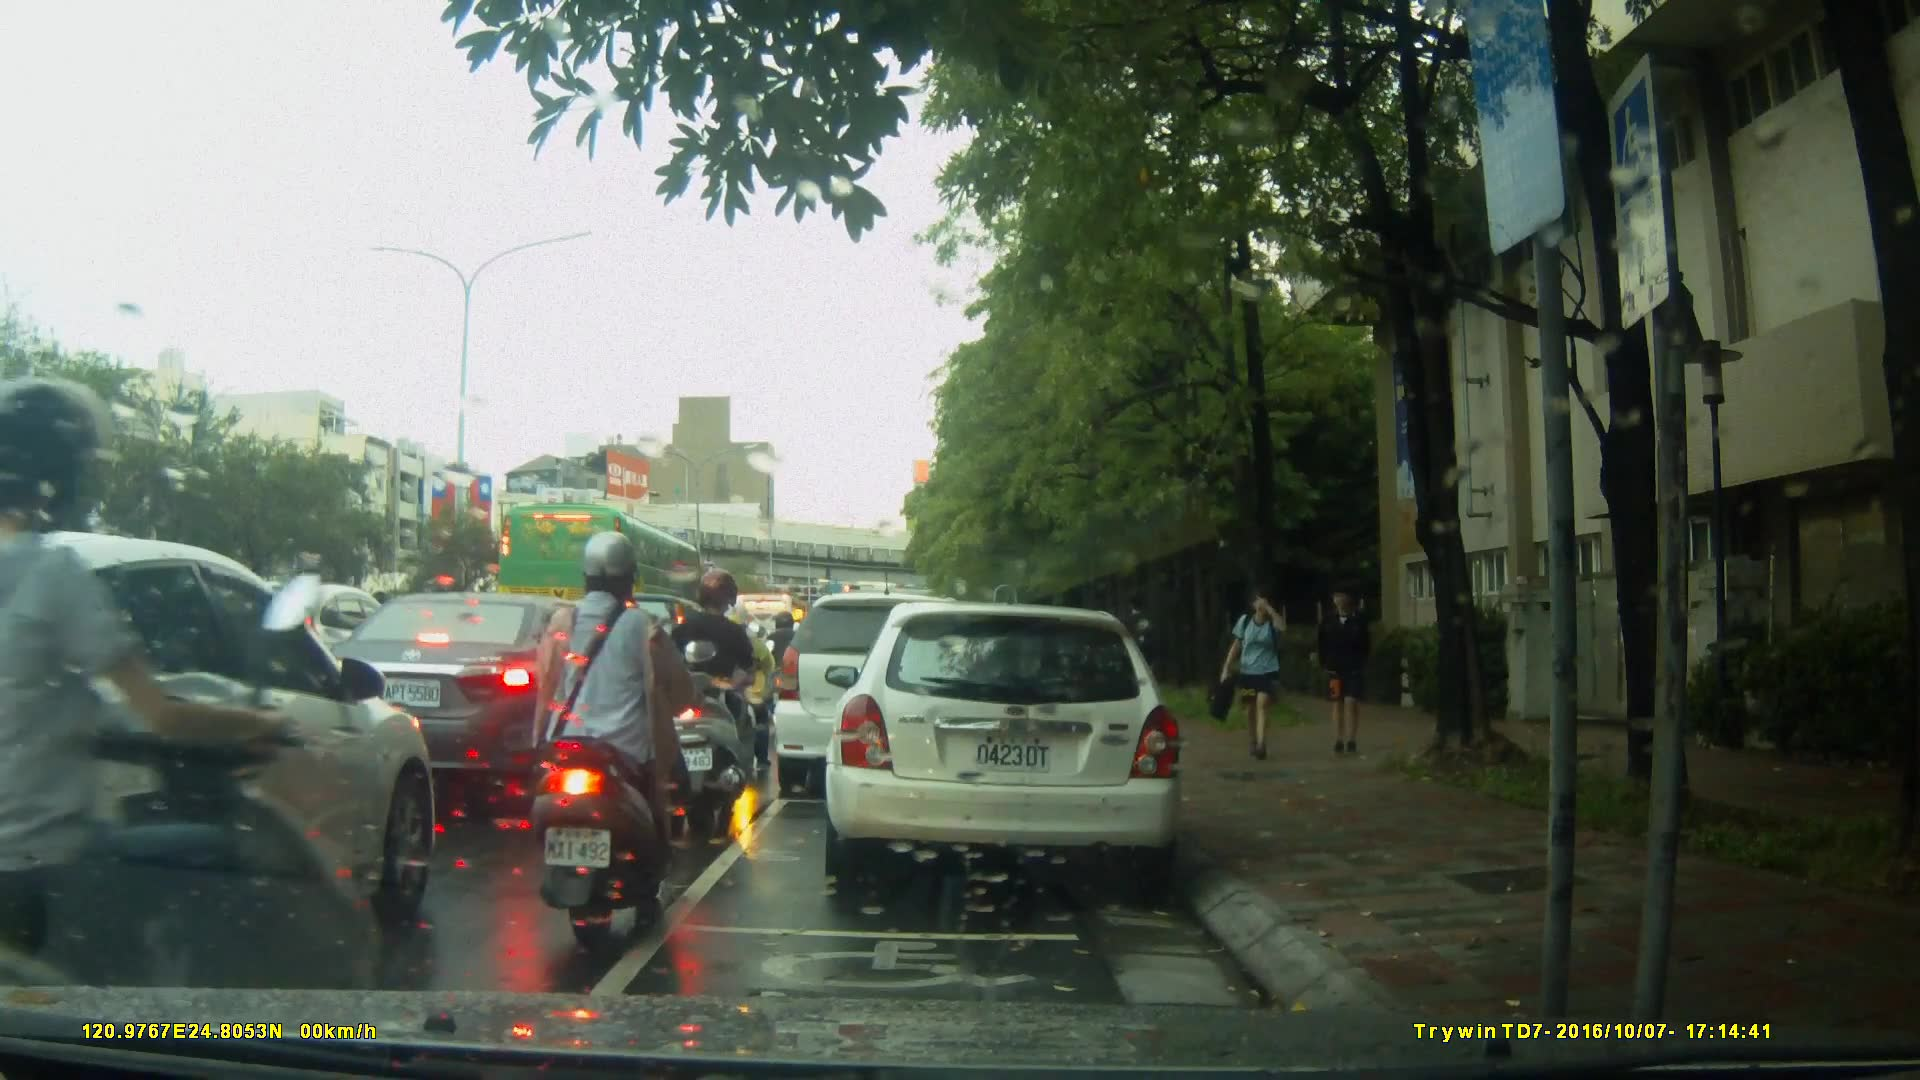pedestrian: (1210, 581, 1318, 763), (1314, 574, 1386, 764), (1123, 596, 1162, 722)
rider: (1, 396, 393, 1080), (527, 532, 686, 946), (653, 570, 753, 825), (708, 600, 772, 771), (759, 610, 813, 747)
vehicle: (1, 528, 446, 987), (831, 592, 1196, 897), (313, 590, 638, 806), (770, 591, 999, 802), (495, 500, 707, 637)
